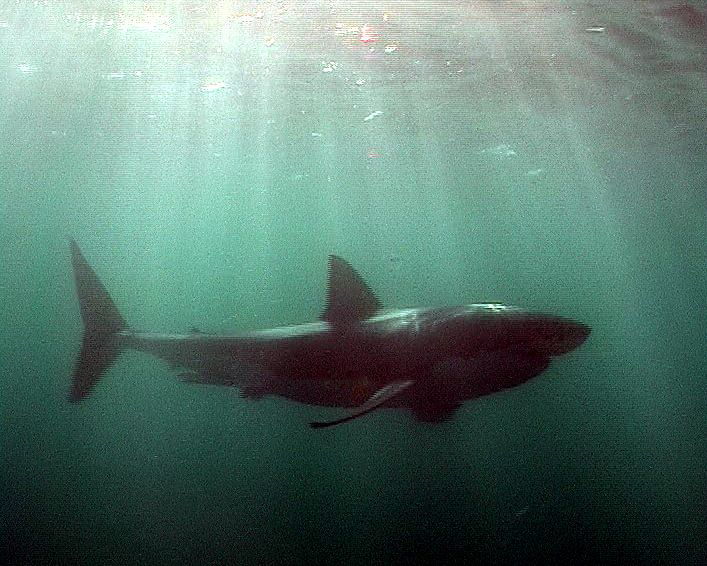Carcharodon_carcharias: (39, 217, 610, 445)
